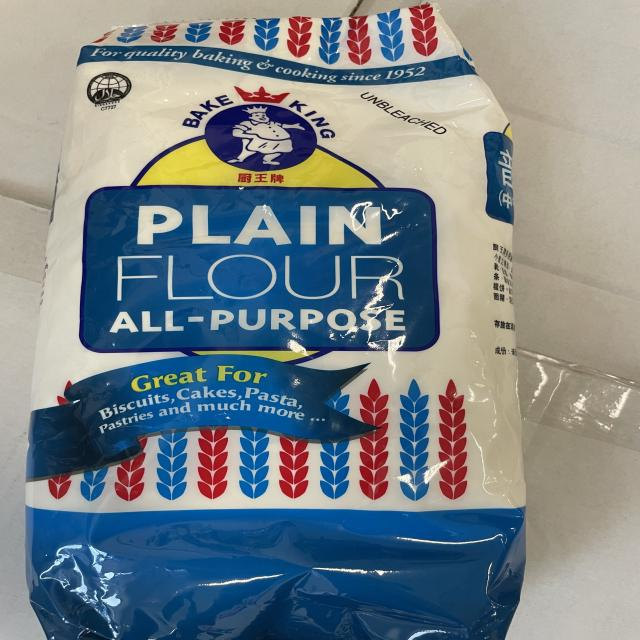object_name: (70, 28, 509, 632)
